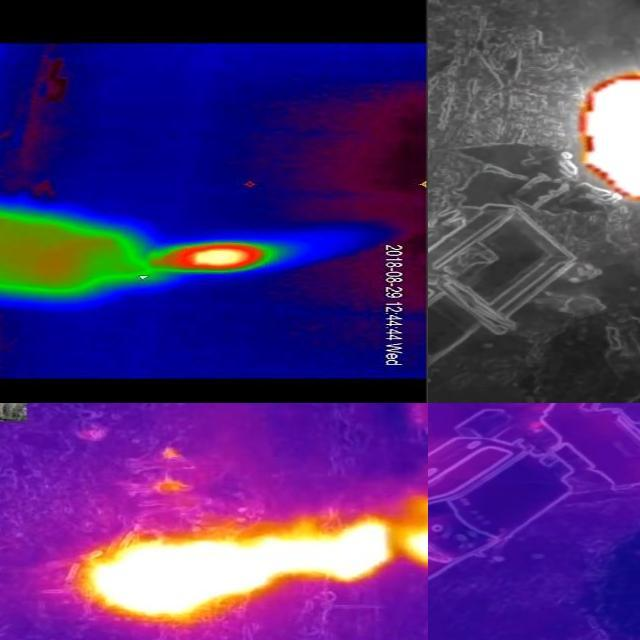fire: (80, 499, 430, 622), (575, 71, 640, 205), (156, 241, 306, 275)
